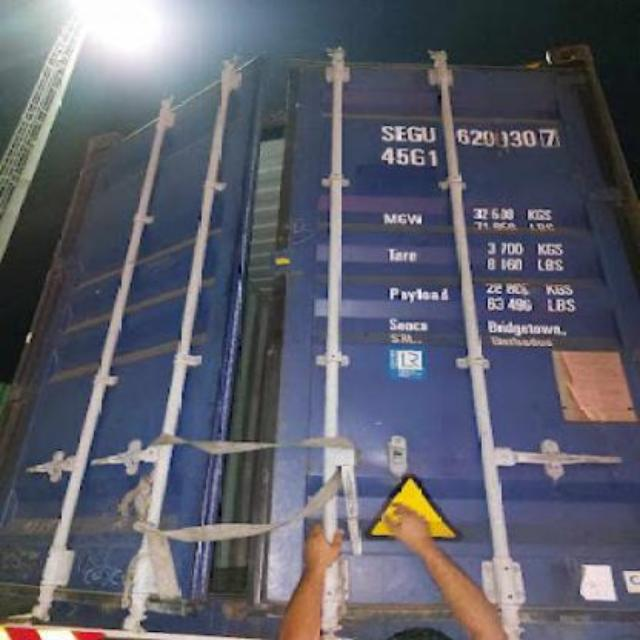0: (522, 129, 538, 147), (496, 130, 509, 148)
2: (466, 127, 484, 147)
3: (504, 128, 522, 148)
6: (456, 127, 468, 143)
7: (542, 129, 556, 147)
9: (484, 130, 496, 148)
E: (392, 122, 406, 142)
G: (408, 124, 422, 144)
S: (376, 122, 396, 144)
U: (422, 126, 438, 142)
